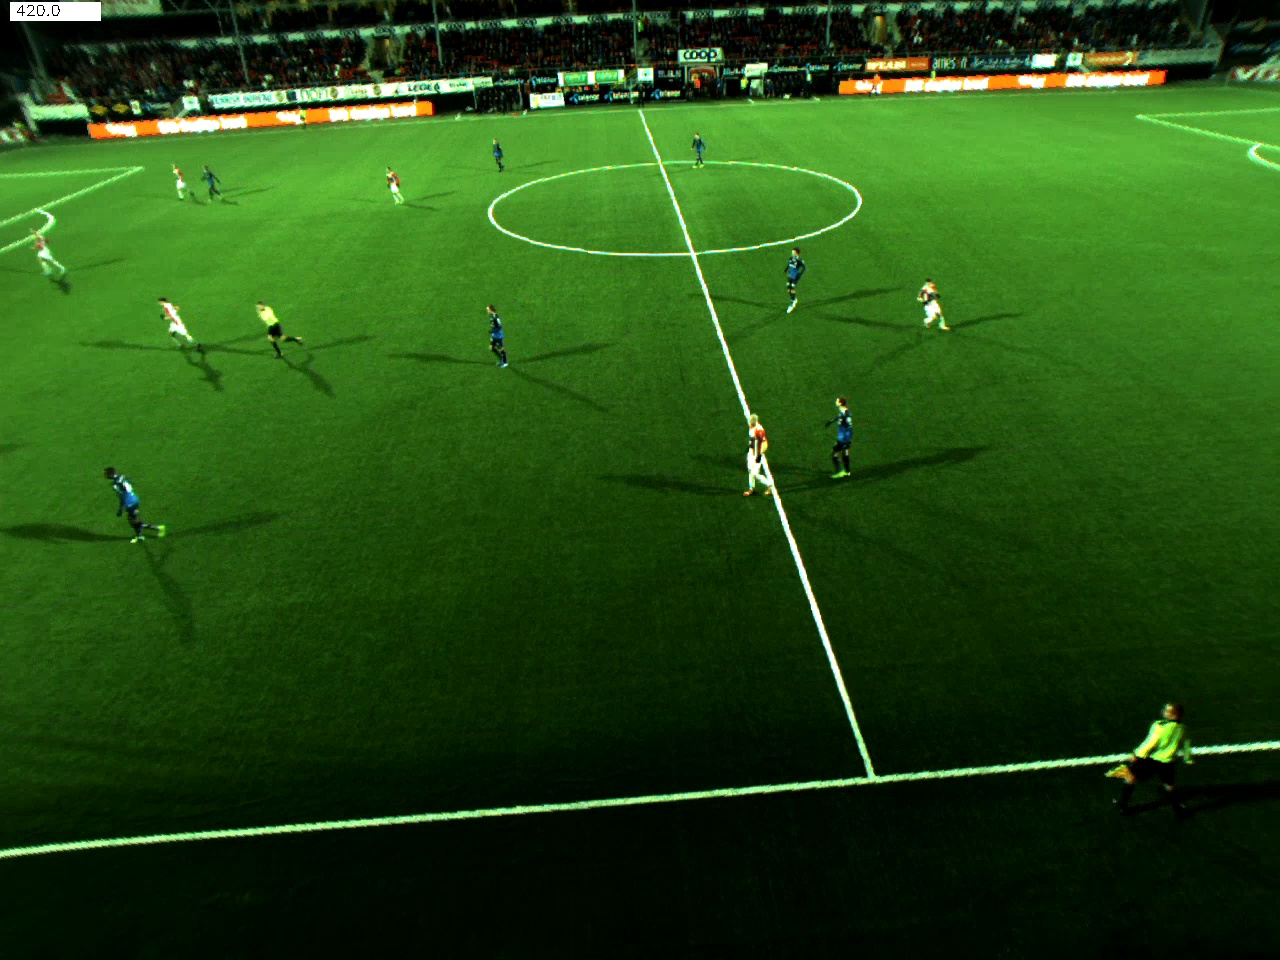blue: (102, 467, 171, 546), (821, 389, 874, 489), (476, 299, 517, 364), (780, 244, 810, 319), (195, 164, 233, 198), (685, 128, 710, 171), (485, 138, 513, 169)
red: (734, 406, 784, 513), (23, 221, 70, 291), (155, 295, 195, 359), (913, 277, 956, 334), (378, 163, 416, 213), (164, 164, 195, 195)
yellow: (1102, 694, 1209, 846), (248, 291, 310, 364)
